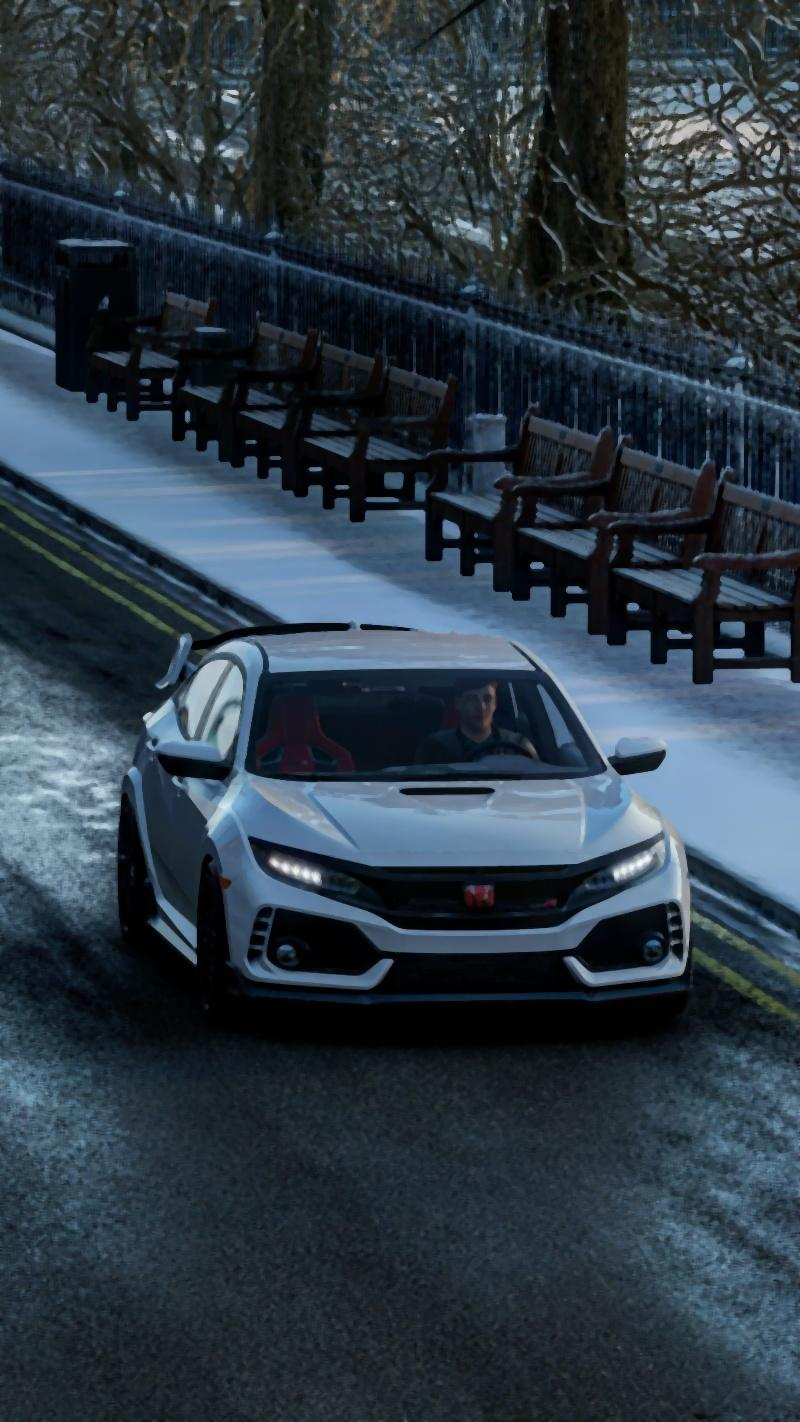Car hood: (237, 764, 671, 874)
Driver-s door - -F-R-: (173, 653, 230, 950)
Fender - -F-R-: (190, 765, 250, 957)
Front bumper: (219, 868, 716, 1024)
Headlight - -L-: (559, 834, 677, 926)
Headlight - -R-: (237, 830, 393, 931)
Passenger-s door - -R-R-: (137, 647, 212, 933)
Side bumper - -R-: (132, 883, 204, 975)
Side mirror - -L-: (602, 729, 686, 786)
Side mirror - -R-: (149, 732, 236, 782)
